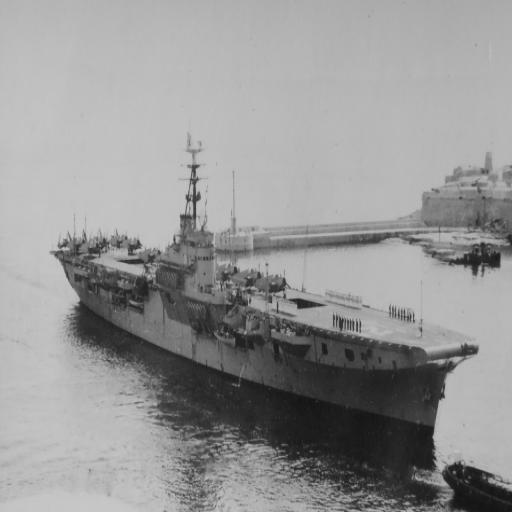Portanaves: (46, 126, 483, 451)
